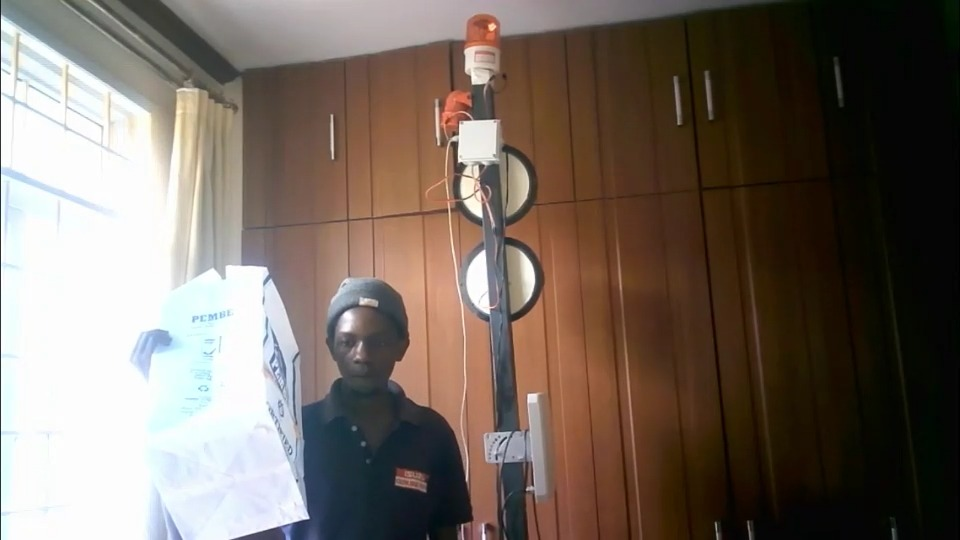wheat_flour_blue_label: (138, 267, 311, 540)
